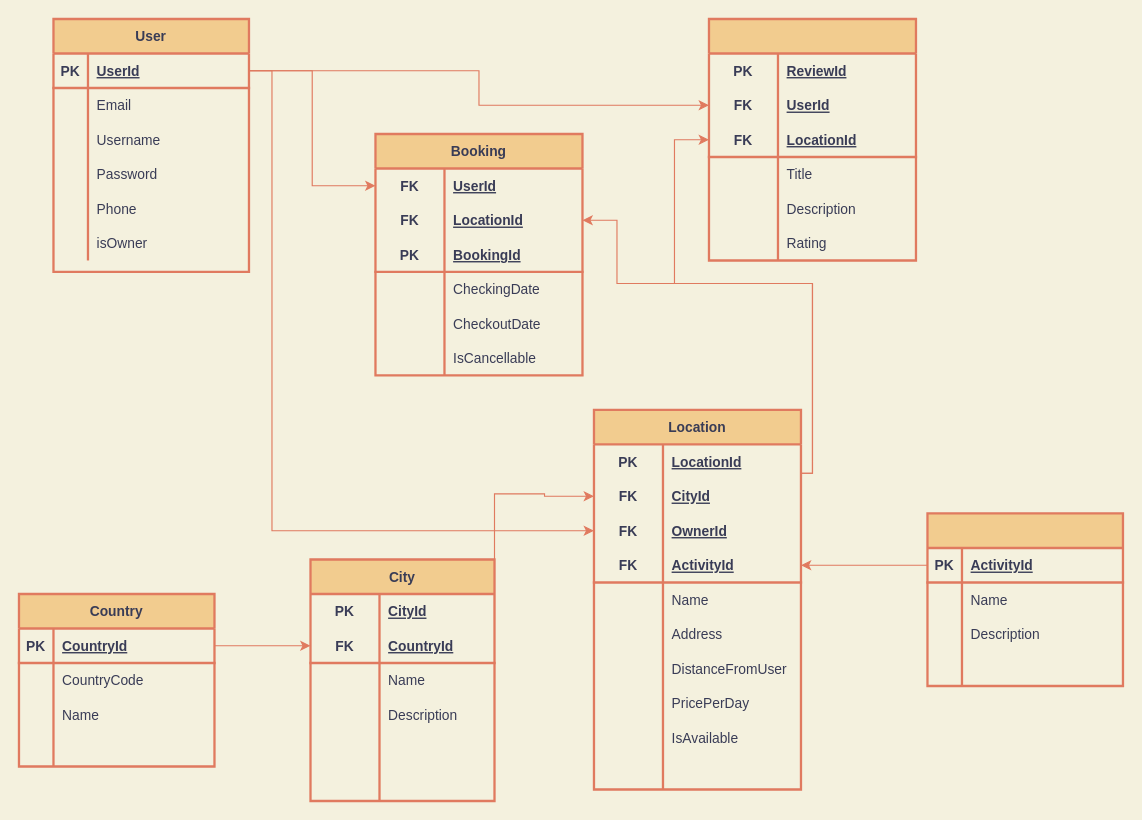
This 1142x820 diagram has some shape labels left out. The shapes that lost their labels are listed below. From the top down, each one's box as (x1, y1, x2, y2) in pixels, then its label:
(707, 17, 917, 261): Reviews
(926, 512, 1124, 687): Activities
